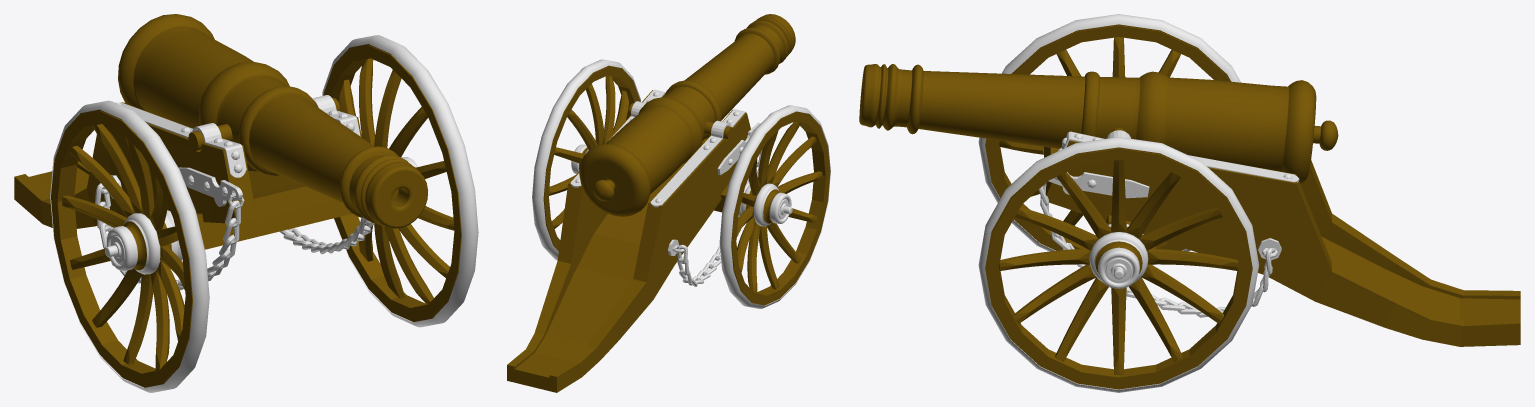
Rendered from cannon.fbx.
3 renders of one model, left to right at view 1: azimuth 30°, elevation 25°; view 2: azimuth 150°, elevation 25°; view 3: azimuth 270°, elevation 25°, orthographic. The views are drawn at different scales.
Visible parts, largest first — view 1: revolvedSurface3, pTorus8, pTorus1, pCube28, pCube27, pCube25, revolvedSurface5, pCylinder8, pCube34, pCube40, pCube39, pCube3 (+18 smaller); view 2: revolvedSurface3, pCube28, pCube27, pTorus8, pTorus1, pCube26, pCylinder8, revolvedSurface5, pCube32, pCube38, pCube11, pCube39 (+12 smaller); view 3: revolvedSurface3, pCube26, pTorus1, pTorus8, pCube27, pCube28, revolvedSurface2, pCube1, pCube7, pCube6, pCube2, pCylinder7 (+9 smaller).
Part boxes in pixels (left/top/right/bottom): revolvedSurface3: left=118, top=14, right=427, bottom=228; pTorus8: left=50, top=100, right=209, bottom=392; pTorus1: left=322, top=35, right=478, bottom=327; pCube28: left=14, top=102, right=256, bottom=228; pCube27: left=29, top=167, right=335, bottom=218; pCube25: left=196, top=200, right=351, bottom=249; revolvedSurface5: left=105, top=213, right=160, bottom=274; pCylinder8: left=119, top=102, right=246, bottom=177; pCube34: left=92, top=124, right=141, bottom=213; pCube40: left=150, top=270, right=169, bottom=370; pCube39: left=123, top=274, right=153, bottom=364; pCube3: left=385, top=227, right=433, bottom=304; revolvedSurface3: left=579, top=14, right=795, bottom=216; pCube28: left=549, top=109, right=750, bottom=392; pCube27: left=514, top=138, right=707, bottom=390; pTorus8: left=719, top=105, right=830, bottom=308; pTorus1: left=532, top=59, right=640, bottom=260; pCube26: left=507, top=90, right=665, bottom=382; pCylinder8: left=650, top=109, right=746, bottom=207; revolvedSurface5: left=754, top=183, right=792, bottom=226; pCube32: left=767, top=121, right=801, bottom=183; pCube38: left=747, top=224, right=760, bottom=293; pCube11: left=604, top=75, right=615, bottom=142; pCube39: left=759, top=226, right=779, bottom=289; revolvedSurface3: left=859, top=64, right=1338, bottom=183; pCube26: left=1045, top=140, right=1520, bottom=346; pTorus1: left=978, top=137, right=1259, bottom=392; pTorus8: left=978, top=14, right=1240, bottom=264; pCube27: left=1044, top=147, right=1520, bottom=320; pCube28: left=1044, top=146, right=1520, bottom=299; revolvedSurface2: left=1089, top=232, right=1148, bottom=288; pCube1: left=999, top=248, right=1090, bottom=270; pCube7: left=1147, top=248, right=1238, bottom=270; pCube6: left=1141, top=264, right=1223, bottom=323; pCube2: left=1014, top=264, right=1096, bottom=324; pCylinder7: left=1061, top=130, right=1299, bottom=182.
Bounding box in the file's own units: 18.2 × 15.56 × 35.33.
